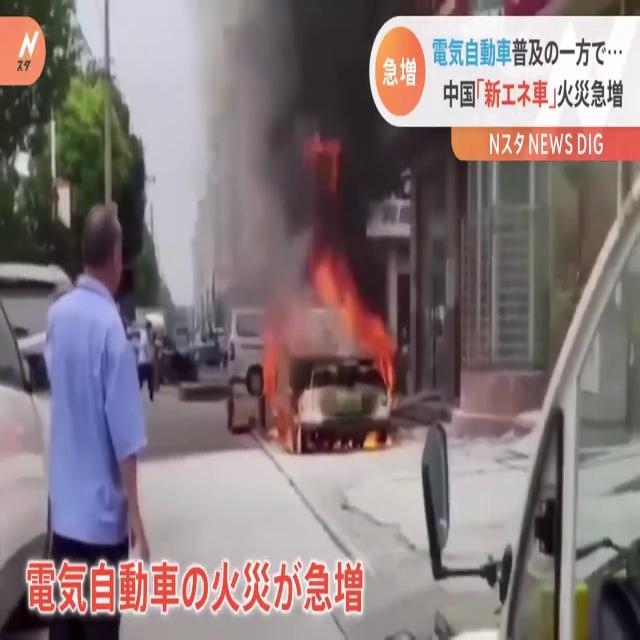Fire: (308, 248, 398, 392), (260, 326, 298, 452)
Smoke: (184, 1, 416, 332)
